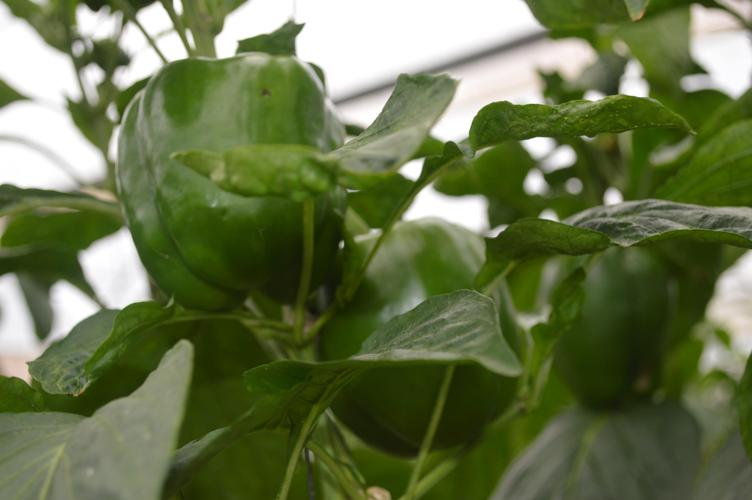BellPepper: (117, 54, 343, 304), (317, 218, 523, 446)
